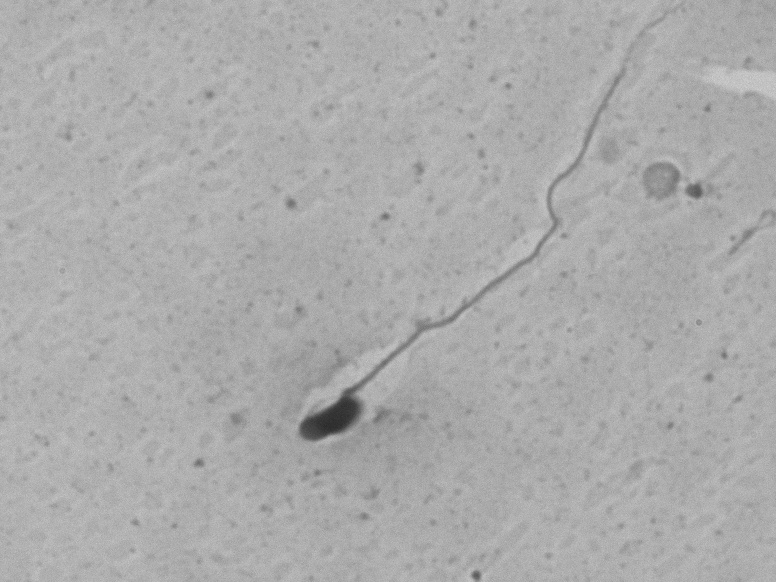Abnormal: (224, 35, 620, 453)
